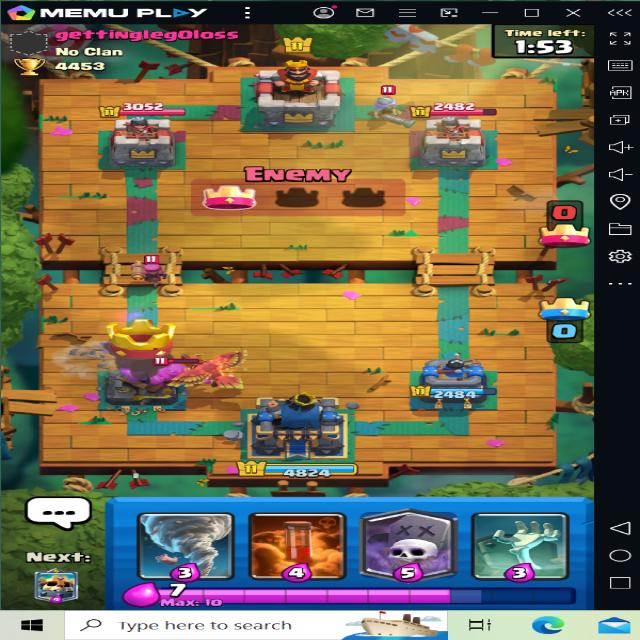electro-golem: (145, 354, 211, 391)
firecracker: (126, 250, 180, 287)
musketeer: (369, 83, 416, 124)
